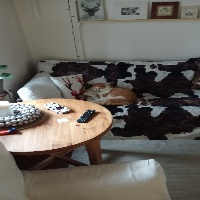asleep: (90, 82, 137, 105)
